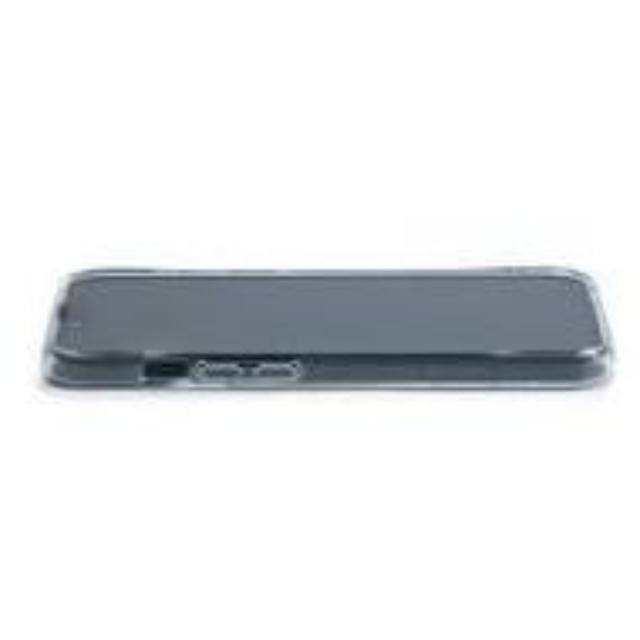phone: (39, 265, 607, 389)
